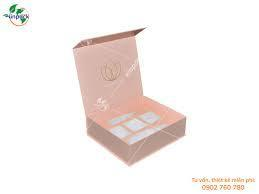box: (72, 27, 186, 167)
